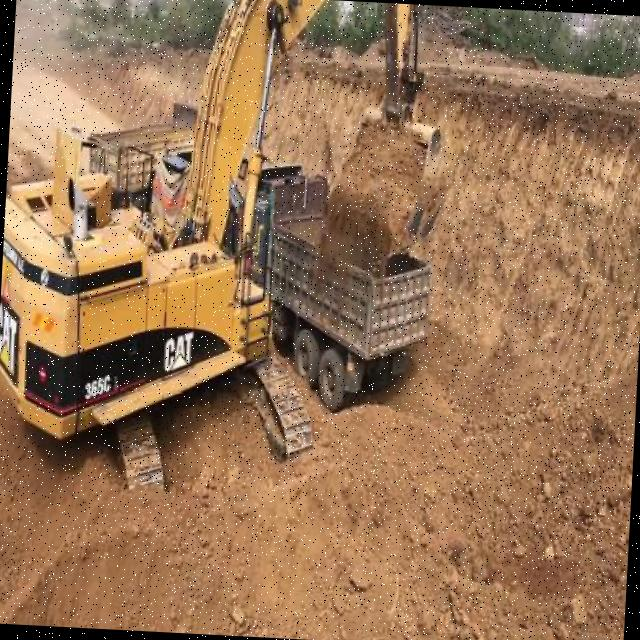Dump Truck: (256, 165, 437, 418)
Excavator: (0, 0, 453, 508)
